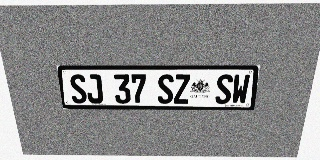3: (114, 74, 131, 104)
7: (130, 74, 147, 104)
J: (85, 74, 103, 103)
S: (69, 74, 88, 103), (215, 74, 233, 104), (158, 74, 174, 104)
W: (231, 74, 250, 104)
Z: (174, 74, 190, 104)
